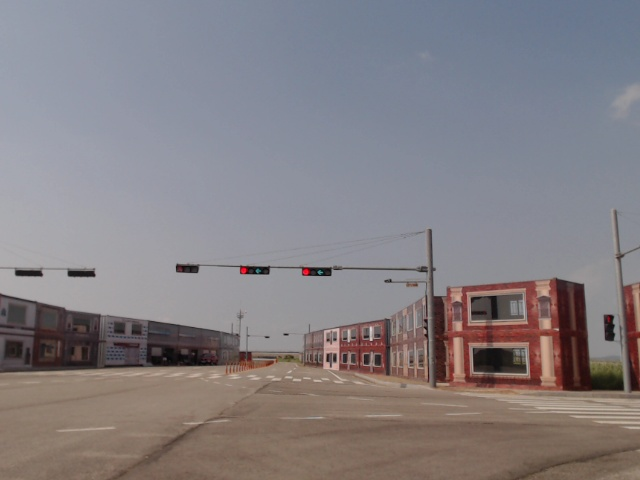left_green_4: (240, 266, 270, 274), (302, 268, 331, 275)
